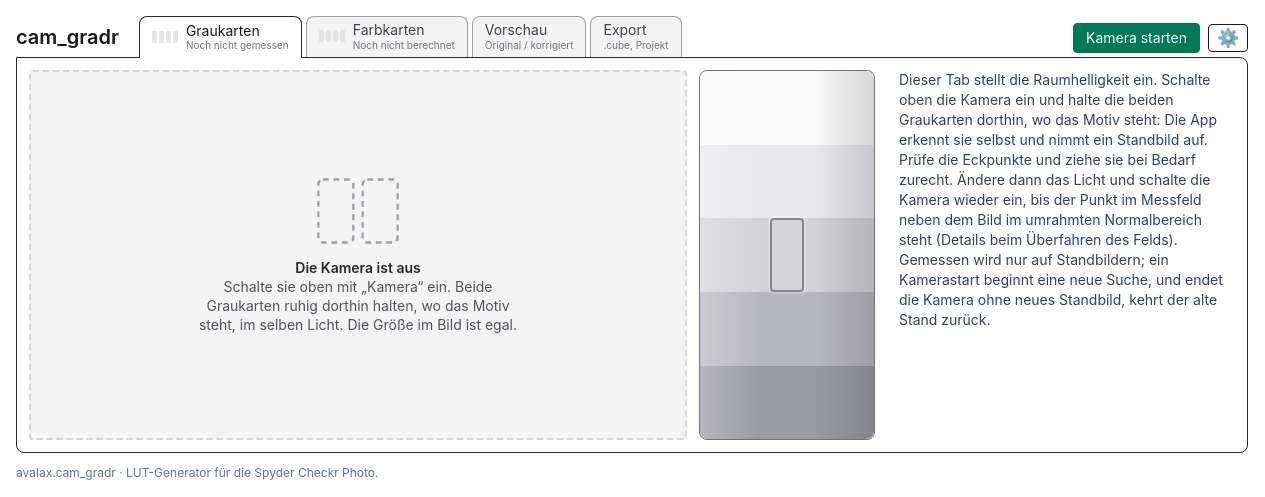
Test: App › wechselt ohne Bedingungen zwischen den Tabs
The width and height of the screenshot is (1265, 497).
Click the tab "Farbkarten Noch nicht berechnet" at (387, 36), box [306,16,468,57]
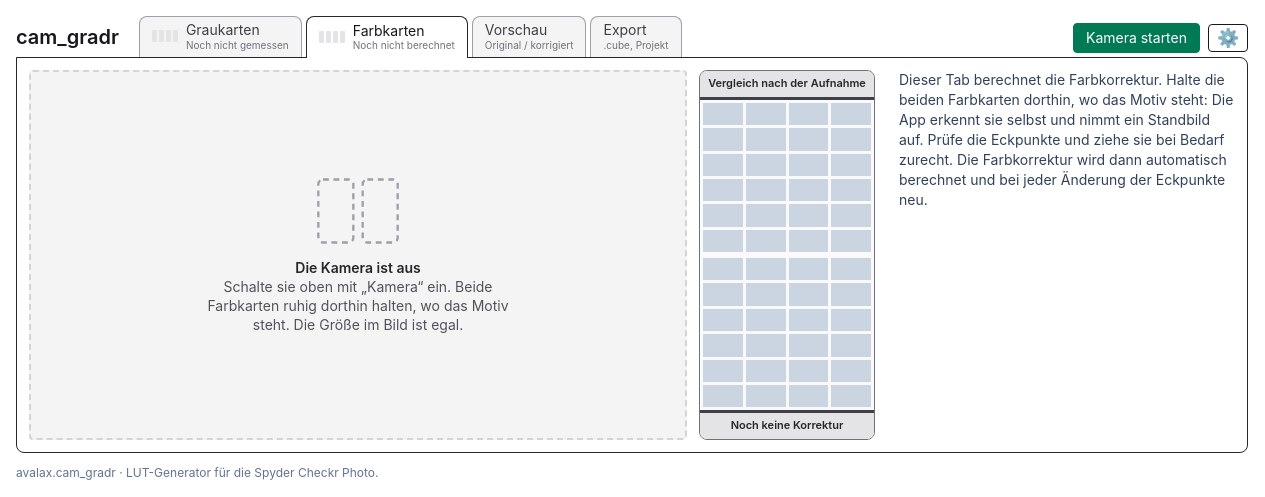
Check: the text "Dieser Tab berechnet die Farbkorrektur" is shown, box [899,71,1233,208]
Click the tab "Graukarten Noch nicht gemessen" at (220, 36), box [139,16,302,57]
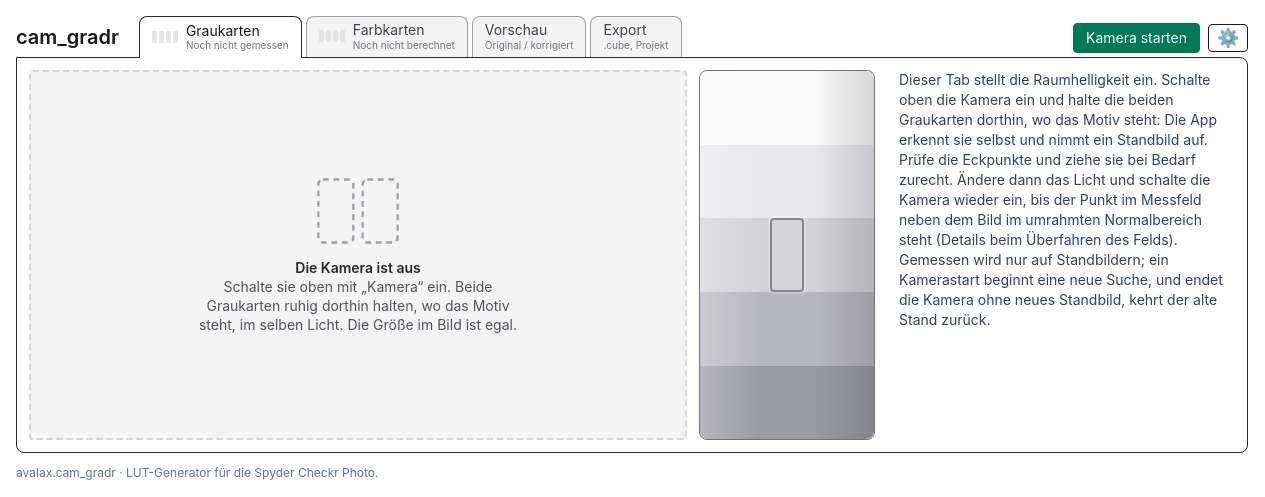
Check: the text "Dieser Tab stellt die Raumhelligkeit ein" is shown, box [899,71,1223,328]
